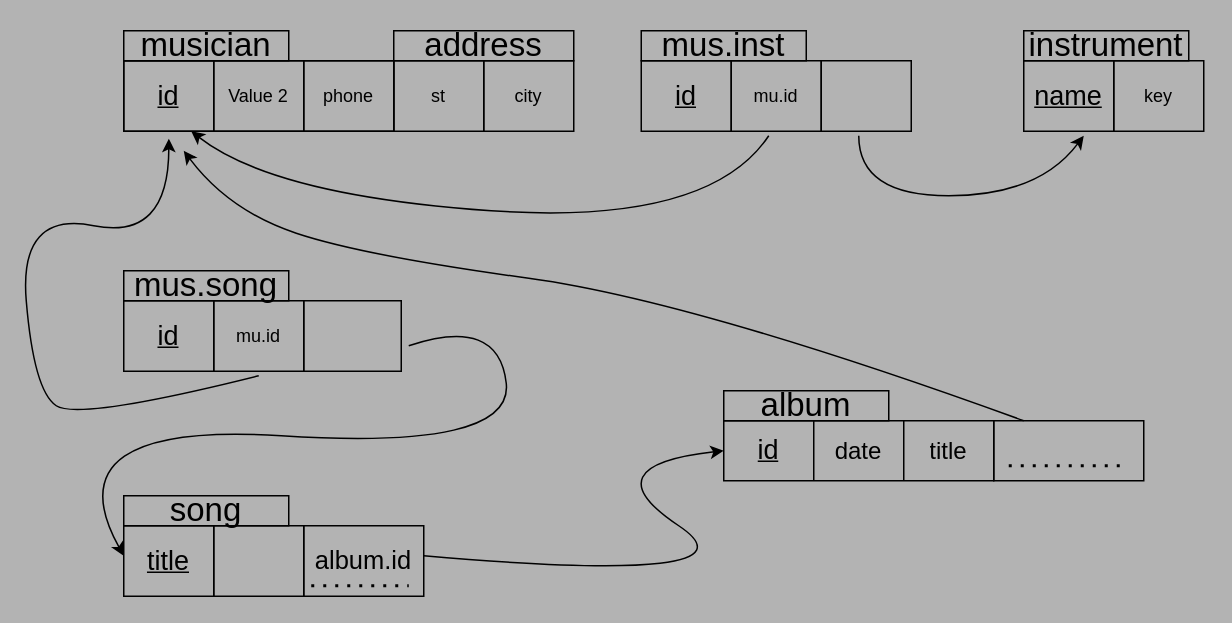
The diagram is 1232 pixels wide and 623 high, and some of its shapes have lost their labels. Here are the shapes that lost their labels. From the top down, the centre of each, then its label:
At [865,95]: "ins.name".
At [351,335]: "song.title".
At [1068,450]: "musicaian.id".
At [258,560]: "auther".
